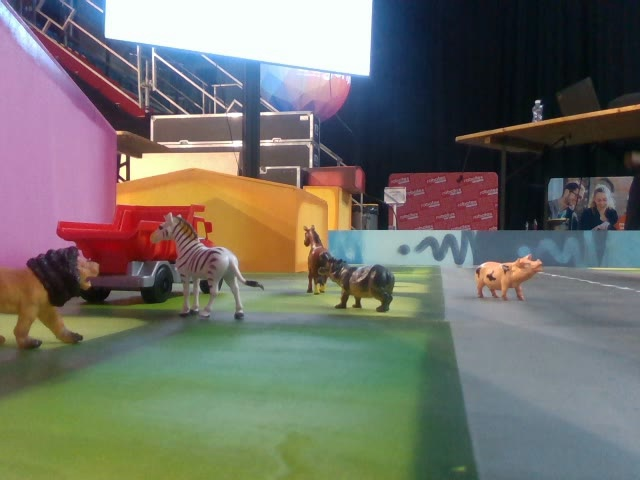toy: (147, 208, 256, 326), (319, 251, 401, 315), (467, 246, 547, 308)
